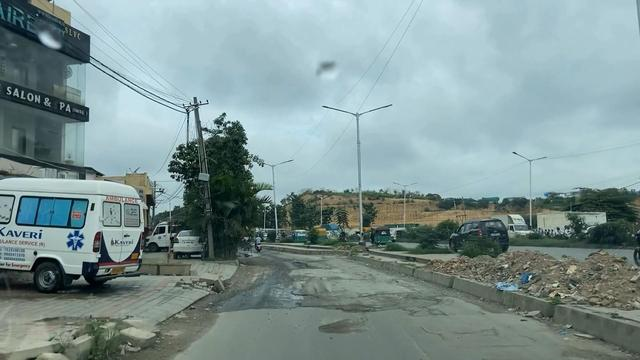RoadDamages: (227, 291, 376, 316), (379, 282, 452, 326)
